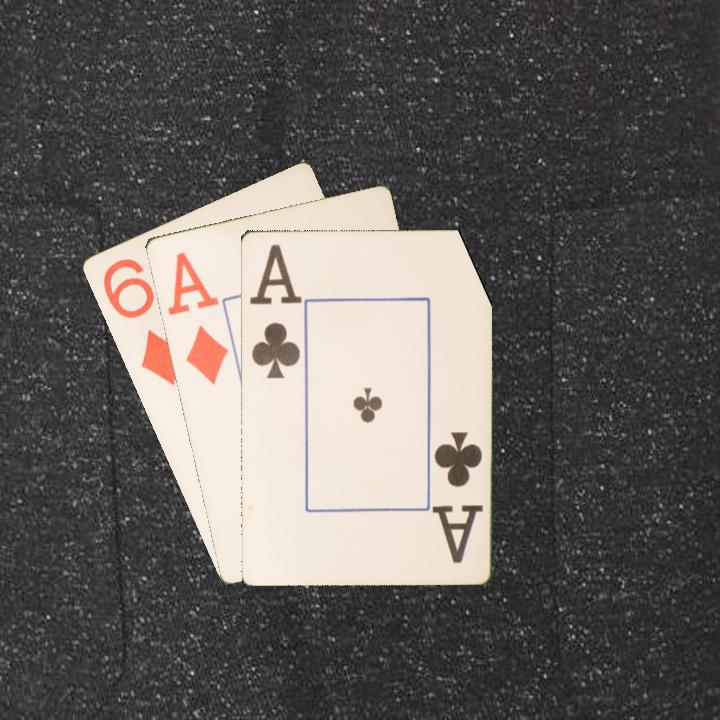6d: (98, 254, 184, 389)
Ac: (245, 241, 302, 382), (429, 427, 485, 566)
Ad: (163, 248, 231, 388)
